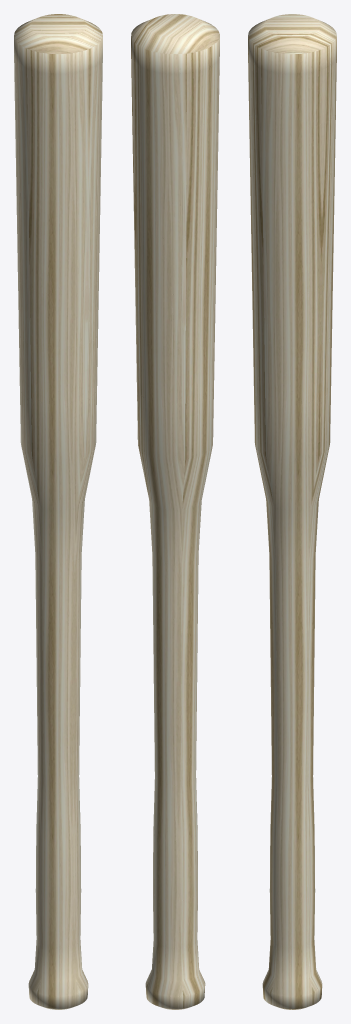
File: baseball_bat.glb
3 views of the same model, side by side, from view 1: azimuth 90°, elevation 25°; view 2: azimuth 150°, elevation 25°; view 3: azimuth 270°, elevation 25° (orthographic).
Parts seen in each view (by area): view 1: Cylinder; view 2: Cylinder; view 3: Cylinder.
Part boxes in pixels (left/top/right/bottom): Cylinder: left=14, top=14, right=102, bottom=1009; Cylinder: left=131, top=14, right=219, bottom=1009; Cylinder: left=248, top=14, right=336, bottom=1009.
Bounding box in the file's own units: 0.218 × 2.64 × 0.218.
1 material, 1 textured.
